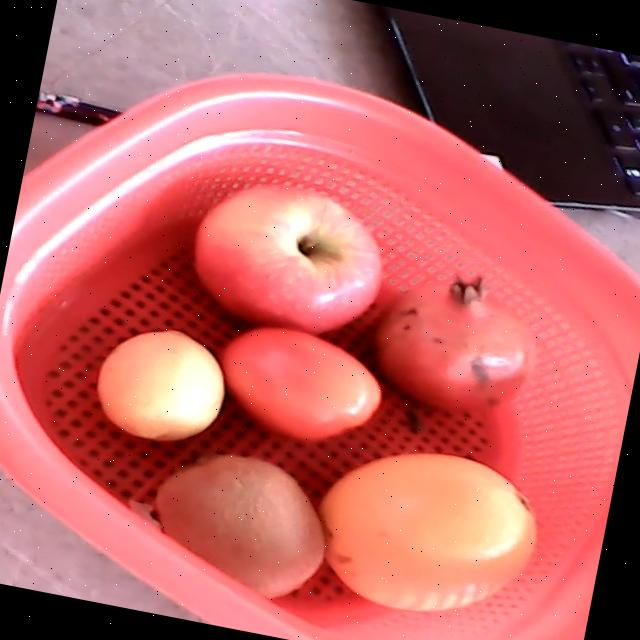apple: (190, 182, 383, 335)
kiwi: (143, 454, 324, 598)
lemon: (95, 330, 223, 442)
orange: (320, 453, 538, 613)
pomegranate: (370, 271, 533, 413)
tomato: (220, 327, 382, 443)
